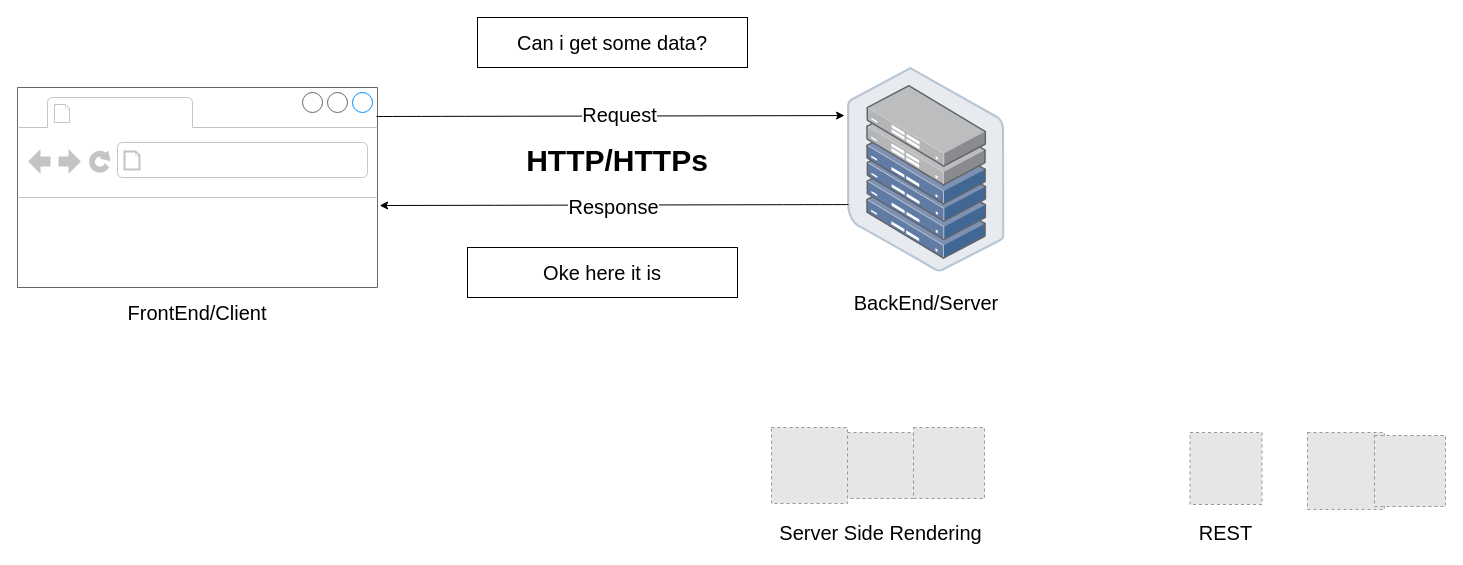
This 1463x565 diagram has some shape labels left out. Grey dashed boxes stand in for pictures. Here are the shapes that lost their labels. From the top down, the centre of each, then its label:
(x=132, y=112): Page 1
(x=272, y=160): https://www.draw.io
